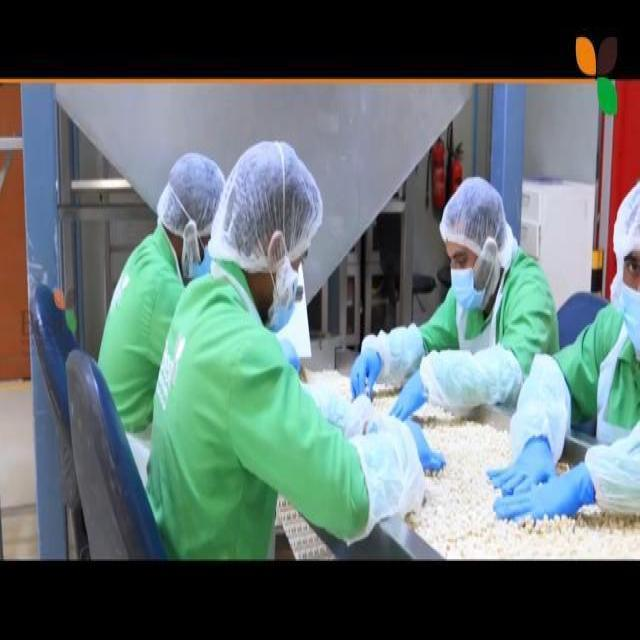gloved_hand: (489, 467, 599, 544), (492, 426, 561, 487), (396, 423, 452, 482), (392, 365, 437, 431), (343, 344, 381, 394)
